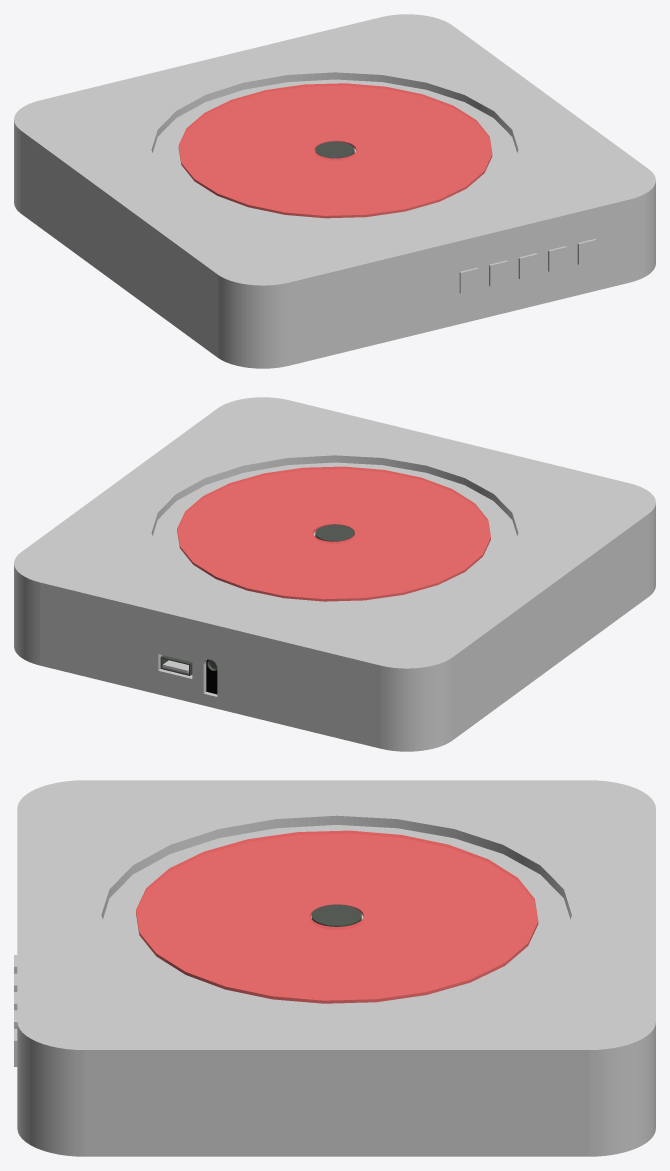
The model's file is Radio.fbx.
3 renders of one model, top to bottom at view 1: azimuth 30°, elevation 25°; view 2: azimuth 150°, elevation 25°; view 3: azimuth 270°, elevation 25°, orthographic. The views are drawn at different scales.
Parts seen in each view (by area): view 1: Group6, Group7; view 2: Group6, Group7; view 3: Group6, Group7.
Part boxes in pixels (<box>): Group6: <box>14,14,655,368</box>; Group7: <box>178,83,492,218</box>; Group6: <box>14,397,655,751</box>; Group7: <box>177,466,490,601</box>; Group6: <box>17,780,655,1156</box>; Group7: <box>136,830,538,1003</box>.
Size of the model in its own units: 190 by 35 by 191.
